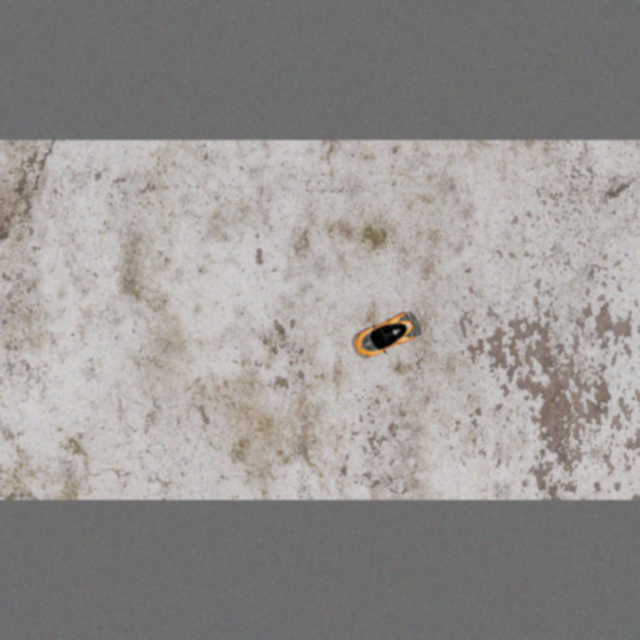car: (350, 307, 425, 362)
